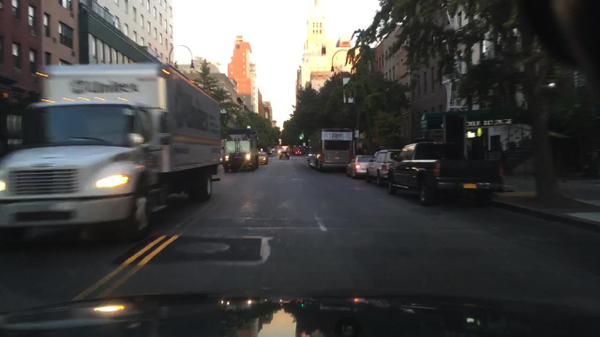bus: (306, 128, 354, 172)
car: (386, 141, 506, 207), (366, 148, 402, 188), (345, 155, 374, 180), (257, 151, 269, 165), (277, 149, 291, 161), (292, 146, 301, 156), (270, 147, 277, 154)
traffic light: (465, 128, 476, 140), (353, 129, 359, 138), (298, 132, 304, 140)
traffic sign: (342, 77, 353, 103), (475, 128, 482, 136)
truck: (0, 60, 222, 242), (222, 129, 259, 174)
